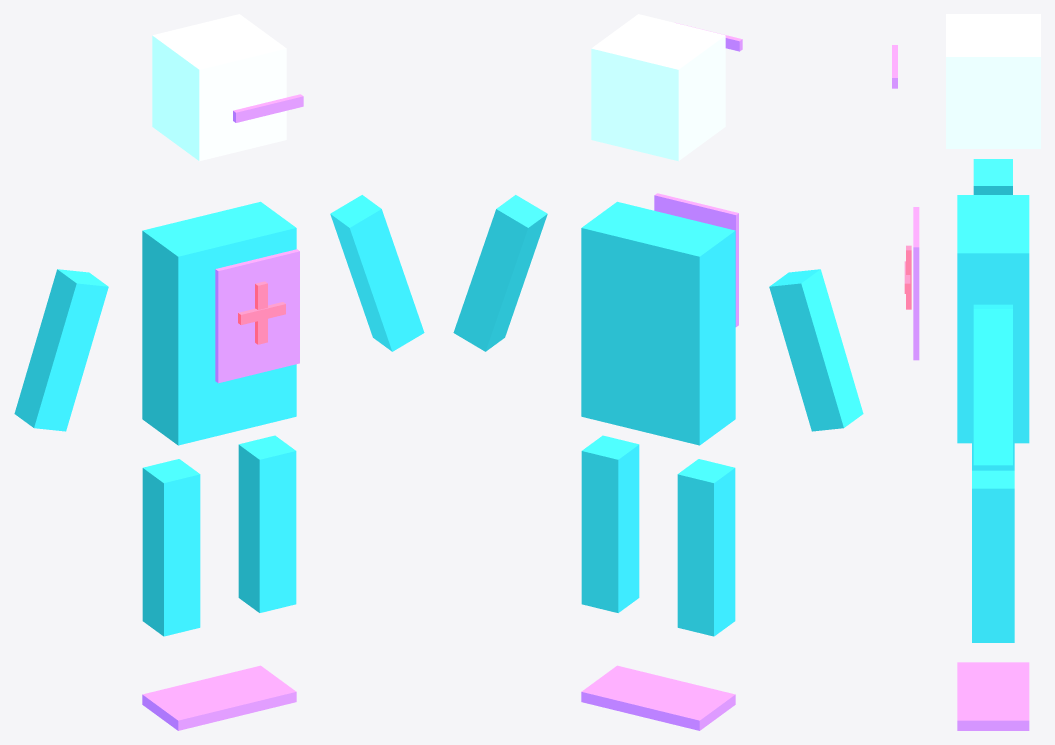
File: vitakiosk-avatar.glb
3 views of the same model, side by side, from view 1: azimuth 30°, elevation 25°; view 2: azimuth 150°, elevation 25°; view 3: azimuth 270°, elevation 25° (orthographic).
Visible parts, largest first — view 1: torso cyan pharmacist coat, head luminous face, right leg, left leg, left arm, holographic chest panel, right arm, base shadow boots, visor cyan expression band, safety cross vertical; view 2: torso cyan pharmacist coat, head luminous face, right leg, left leg, left arm, right arm, base shadow boots, holographic chest panel; view 3: head luminous face, torso cyan pharmacist coat, right leg, right arm, base shadow boots, left arm, holographic chest panel, left leg, safety cross vertical, visor cyan expression band.
Part boxes in pixels (left/top/right/bottom): torso cyan pharmacist coat: left=142, top=201, right=296, bottom=445; head luminous face: left=152, top=14, right=286, bottom=161; right leg: left=238, top=435, right=296, bottom=612; left leg: left=142, top=459, right=200, bottom=636; left arm: left=14, top=269, right=108, bottom=431; holographic chest panel: left=215, top=249, right=299, bottom=383; right arm: left=330, top=195, right=424, bottom=351; base shadow boots: left=142, top=665, right=296, bottom=730; visor cyan expression band: left=233, top=94, right=303, bottom=122; safety cross vertical: left=255, top=281, right=267, bottom=344; torso cyan pharmacist coat: left=581, top=201, right=735, bottom=445; head luminous face: left=591, top=14, right=725, bottom=161; right leg: left=581, top=435, right=639, bottom=612; left leg: left=677, top=459, right=735, bottom=636; left arm: left=769, top=269, right=863, bottom=431; right arm: left=453, top=195, right=547, bottom=351; base shadow boots: left=581, top=665, right=735, bottom=730; holographic chest panel: left=654, top=193, right=738, bottom=326; head luminous face: left=946, top=14, right=1040, bottom=148; torso cyan pharmacist coat: left=957, top=195, right=1029, bottom=443; right leg: left=972, top=470, right=1014, bottom=642; right arm: left=973, top=304, right=1012, bottom=465; base shadow boots: left=957, top=662, right=1029, bottom=730; left arm: left=973, top=159, right=1012, bottom=194; holographic chest panel: left=913, top=207, right=919, bottom=360; left leg: left=972, top=443, right=1014, bottom=470; safety cross vertical: left=906, top=245, right=911, bottom=309; visor cyan expression band: left=892, top=45, right=897, bottom=88.
Size of the model in its own units: 1.39 by 2.24 by 0.454.
